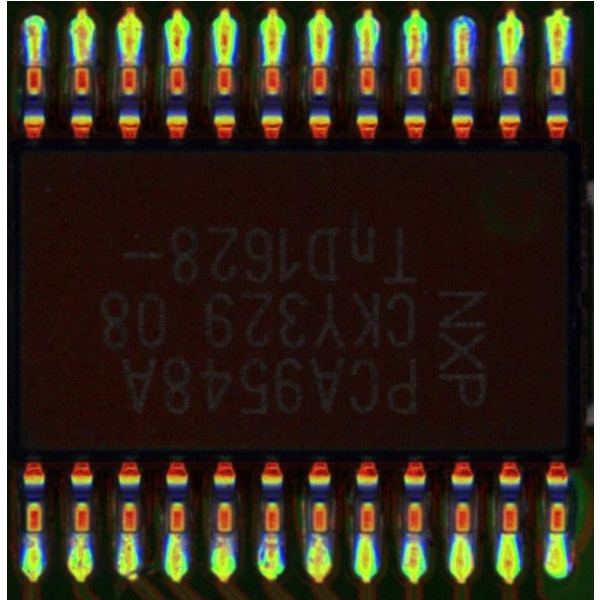Bad_podu: (406, 45, 420, 76), (359, 45, 372, 76), (74, 47, 86, 79), (456, 48, 468, 78), (27, 47, 39, 77)
